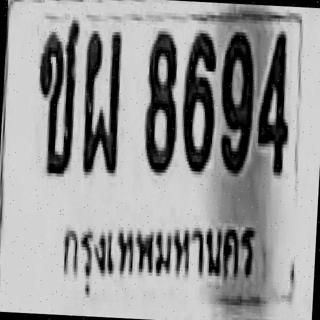A10: (33, 16, 80, 174)
A28: (78, 26, 123, 175)
N04: (256, 27, 294, 176)
N06: (180, 29, 218, 172)
N08: (142, 28, 180, 173)
N09: (216, 28, 256, 174)
P04: (52, 206, 264, 310)
